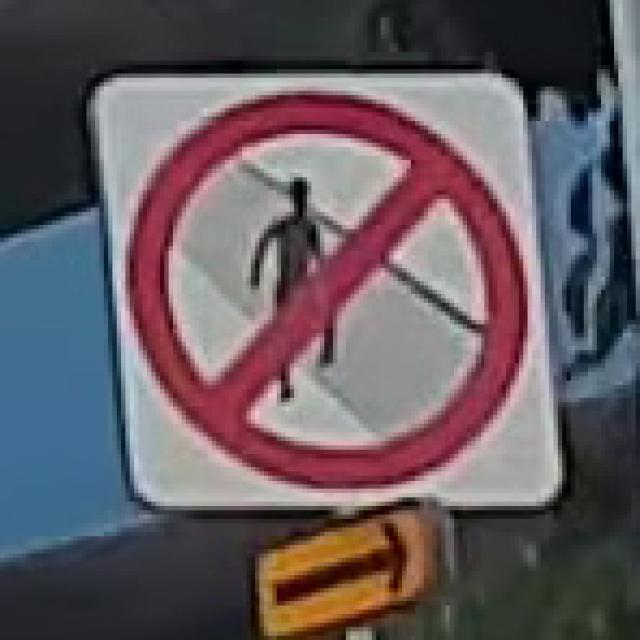nojaywalking_sign: (82, 61, 567, 514)
